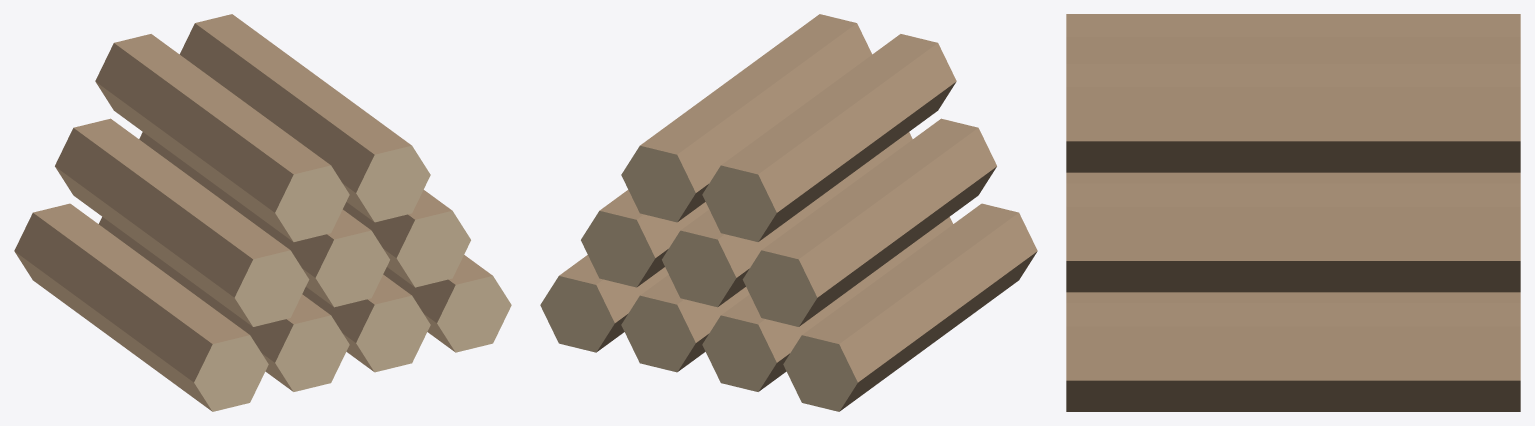
The model's file is woodPile.glb.
3 renders of one model, left to right at view 1: azimuth 30°, elevation 25°; view 2: azimuth 150°, elevation 25°; view 3: azimuth 270°, elevation 25°, orthographic. The views are drawn at different scales.
Visible parts, largest first — view 1: woodPile; view 2: woodPile; view 3: woodPile.
Boxes of the visible parts, box(x1,y1,x2,y2) form: woodPile: box(14, 14, 511, 411); woodPile: box(540, 14, 1037, 411); woodPile: box(1066, 14, 1520, 411).
Bounding box in the file's own units: 1.02 × 0.6678 × 1.
